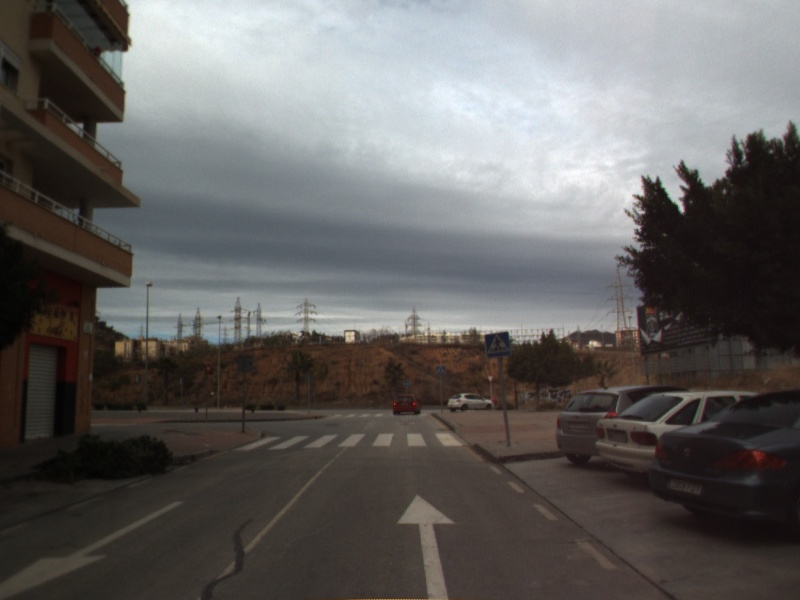STRAIGHT: (395, 491, 459, 600)
